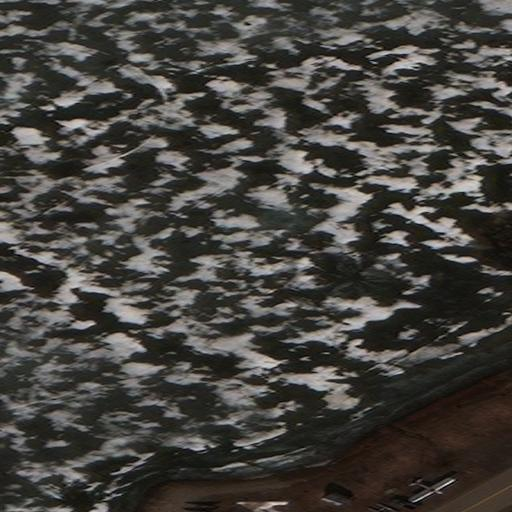Small Civil Transport: (411, 479, 457, 503)
